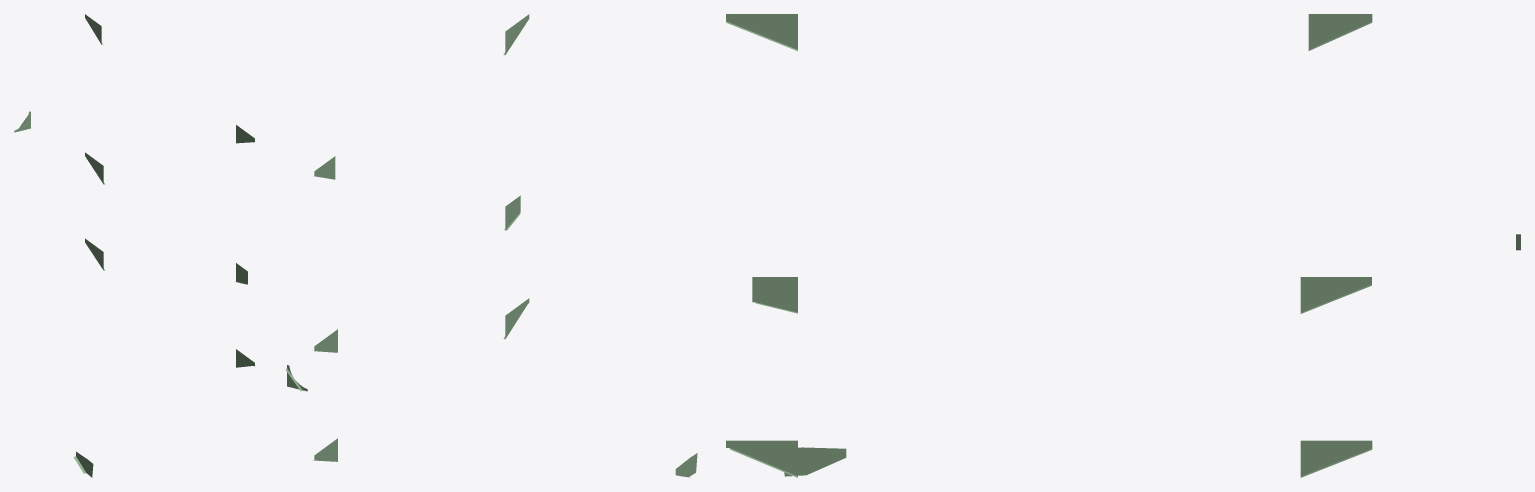
File: ENGINE_ROOM.glb
The picture shows the model from 3 angles, left to right: view 1: azimuth 30°, elevation 25°; view 2: azimuth 150°, elevation 25°; view 3: azimuth 270°, elevation 25°; orthographic projection. The views are drawn at different scales.
Parts seen in each view (by area): view 1: no part large enough to name; view 2: no part large enough to name; view 3: PL_TransBracketxFR41P_003001-10_NVA_1993, PL_TransBracketxFR41S_003001-10_NVA_1993, PL_TransBracketxFR41S_001001-10_NVA_1993, PL_TransBracketxFR41P_002001-10_NVA_1993, PL_TransBracketxFR41P_001001-10_NVA_1993, PL_TransBracketxFR41S_002001-10_NVA_1993, PL_TransBracketxFR32S_001001-12_NVA36_2014.
Part boxes in pixels (x1=…): PL_TransBracketxFR41P_003001-10_NVA_1993: x1=1300, y1=440, x2=1372, y2=475; PL_TransBracketxFR41S_003001-10_NVA_1993: x1=726, y1=14, x2=797, y2=49; PL_TransBracketxFR41S_001001-10_NVA_1993: x1=726, y1=440, x2=797, y2=476; PL_TransBracketxFR41P_002001-10_NVA_1993: x1=1300, y1=277, x2=1371, y2=312; PL_TransBracketxFR41P_001001-10_NVA_1993: x1=1308, y1=14, x2=1372, y2=49; PL_TransBracketxFR41S_002001-10_NVA_1993: x1=752, y1=277, x2=797, y2=312; PL_TransBracketxFR32S_001001-12_NVA36_2014: x1=784, y1=447, x2=846, y2=476.
Size of the model in its own units: 8.34 by 16.57 by 19.93.
